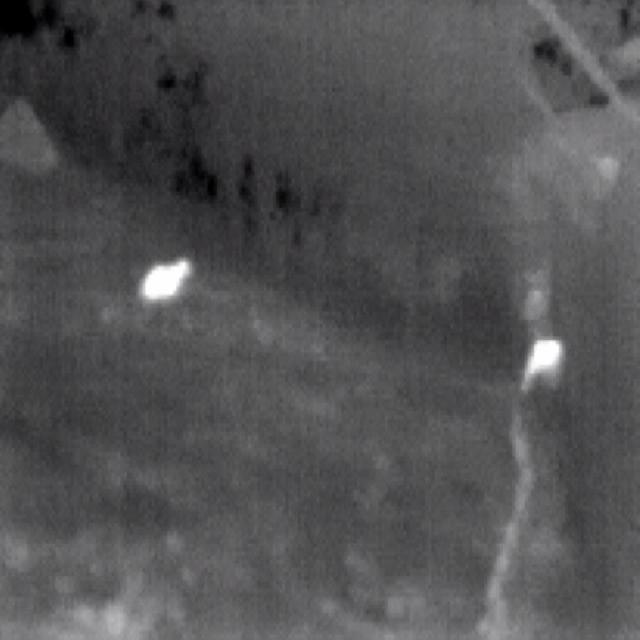cheetah: (521, 340, 562, 391), (141, 260, 193, 300)
